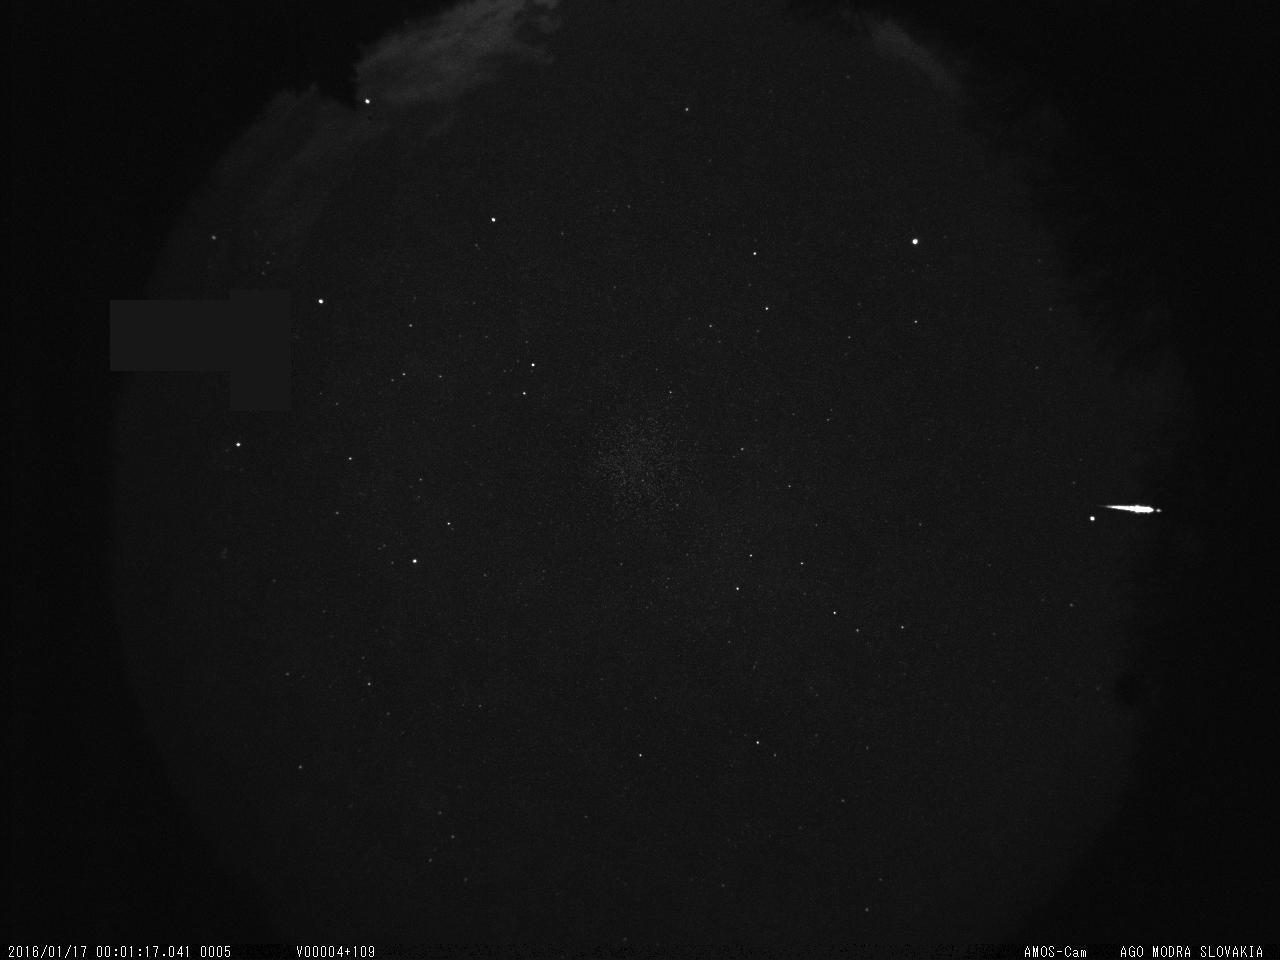meteor: (1100, 485, 1168, 539)
